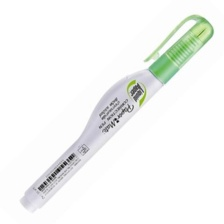correction_fluid: (18, 9, 214, 215)
